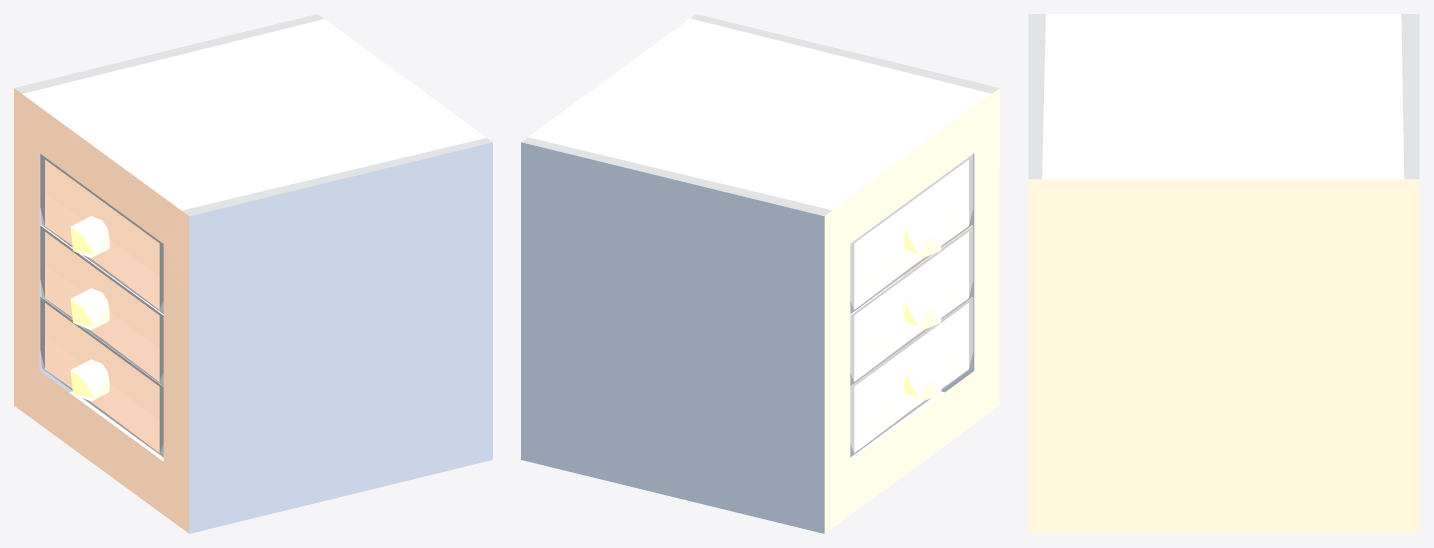
File: commode-lit.glb
3 renders of one model, left to right at view 1: azimuth 30°, elevation 25°; view 2: azimuth 150°, elevation 25°; view 3: azimuth 270°, elevation 25°, orthographic. The views are drawn at different scales.
Parts seen in each view (by area): view 1: Commode, Tiroir.001, Tiroir.002, Tiroir; view 2: Commode, Tiroir.001, Tiroir.002, Tiroir; view 3: Commode.
Part boxes in pixels (bbox=[...]): Commode: bbox=[14, 14, 492, 533]; Tiroir.001: bbox=[40, 225, 163, 386]; Tiroir.002: bbox=[40, 296, 163, 457]; Tiroir: bbox=[40, 154, 163, 313]; Commode: bbox=[521, 14, 999, 533]; Tiroir.001: bbox=[850, 225, 973, 385]; Tiroir.002: bbox=[850, 296, 973, 457]; Tiroir: bbox=[850, 154, 973, 313]; Commode: bbox=[1028, 14, 1419, 533].
Bounding box in the file's own units: 0.8334 × 0.7617 × 0.7617.
